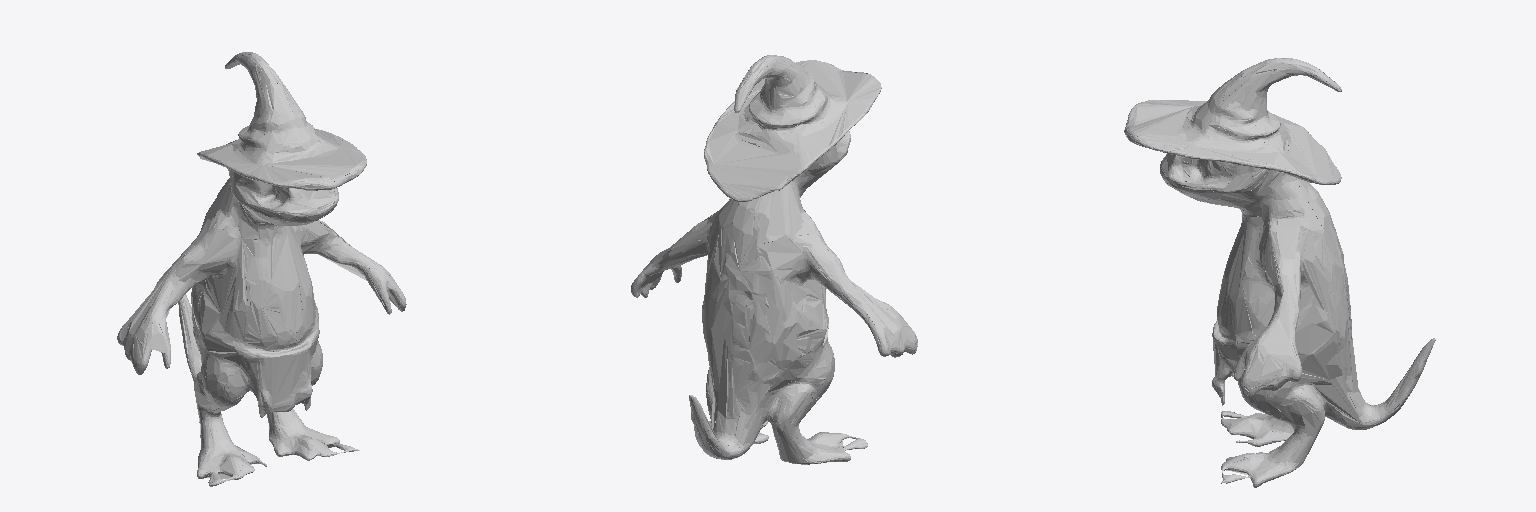
Rendered from geckoreligion.obj.
The picture shows the model from 3 angles: view 1: azimuth 30°, elevation 25°; view 2: azimuth 150°, elevation 25°; view 3: azimuth 270°, elevation 25°; orthographic projection.
Parts seen in each view (by area): view 1: model; view 2: model; view 3: model.
Boxes of the visible parts, x1,y1,x2,y2 form: model: [117, 52, 406, 486]; model: [631, 55, 917, 464]; model: [1124, 58, 1435, 487].
Size of the model in its own units: 1.27 by 1.79 by 1.28.